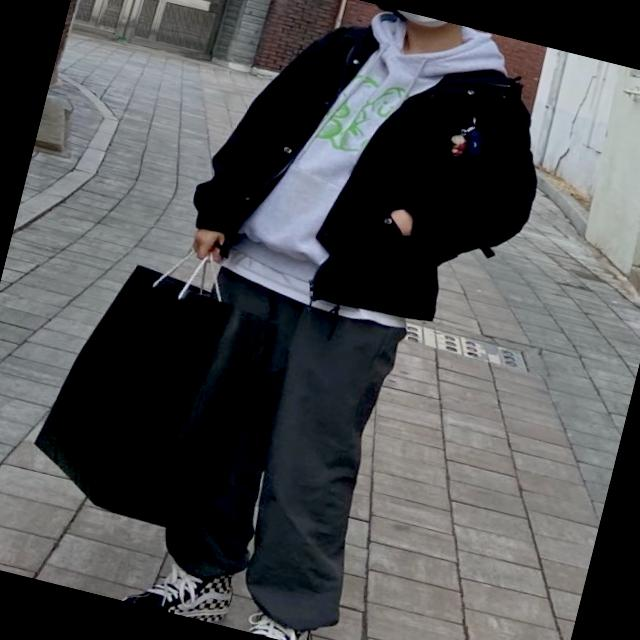cottonpants: (137, 259, 412, 636)
hoodies: (225, 0, 515, 312)
jacket: (177, 0, 570, 341)
